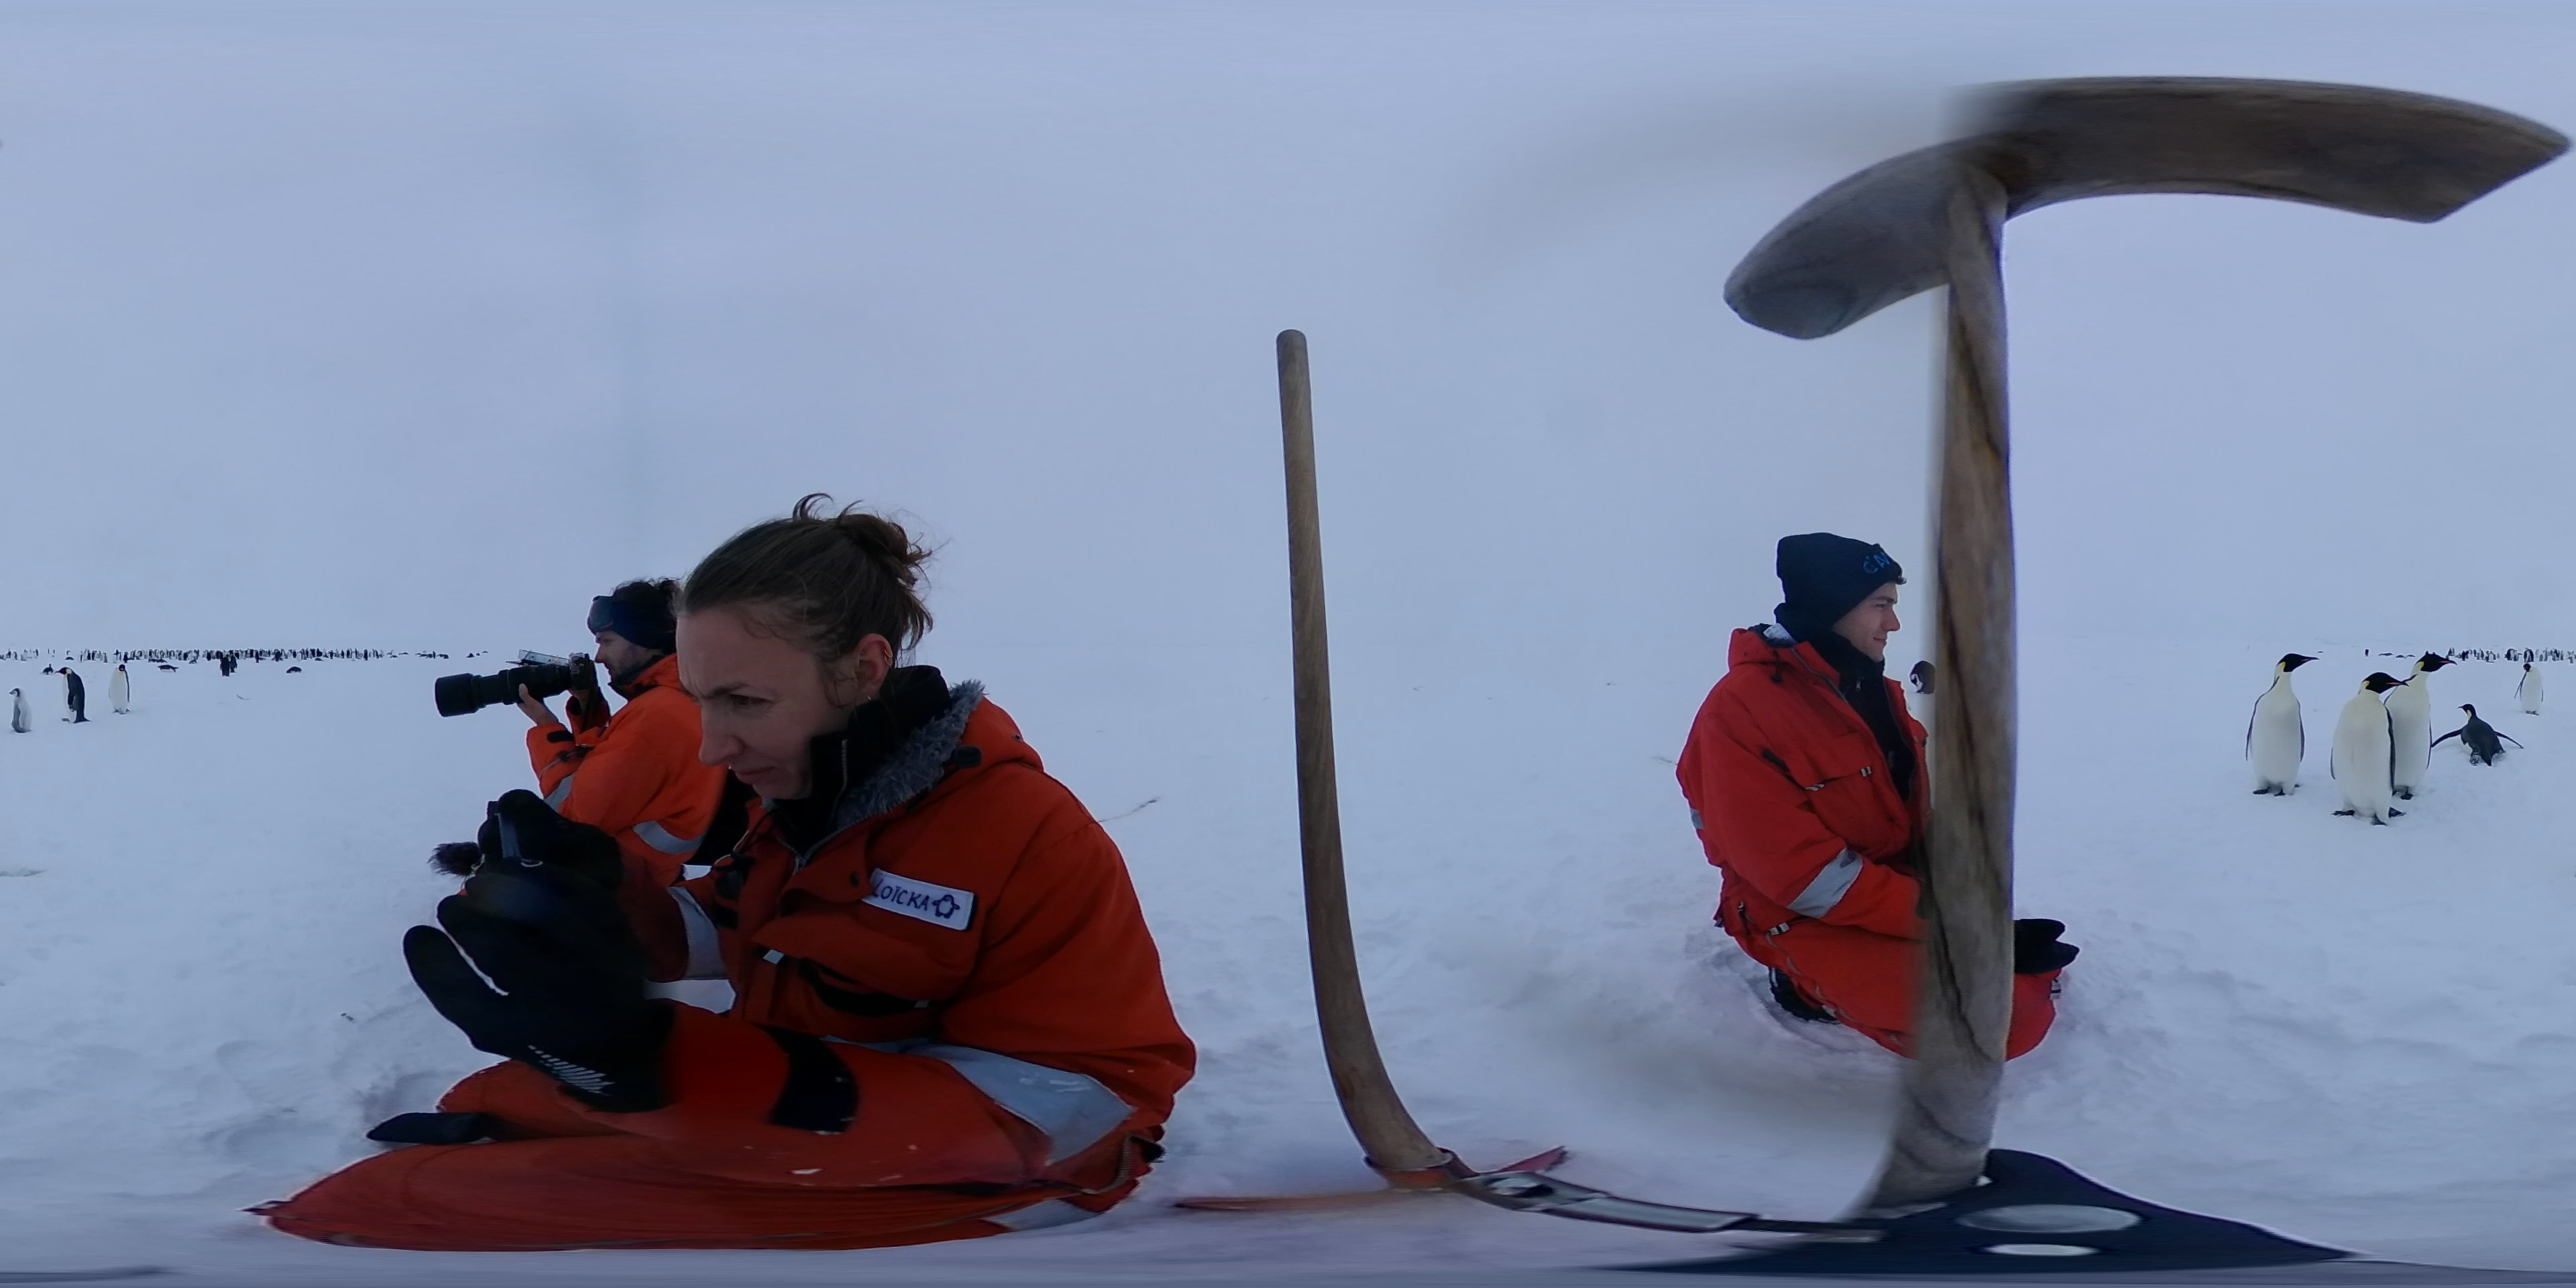adult_standing_penguin: (2321, 664, 2403, 830), (2244, 651, 2315, 798), (2385, 652, 2453, 802), (57, 665, 90, 728), (2512, 662, 2545, 720), (105, 664, 136, 718), (1909, 659, 1943, 700)
adult_toboggan_penguin: (2423, 698, 2512, 770)
juvenile_penguin: (0, 688, 31, 736)
researcher: (485, 522, 1201, 1148), (1663, 526, 2072, 1061), (537, 575, 713, 894)
